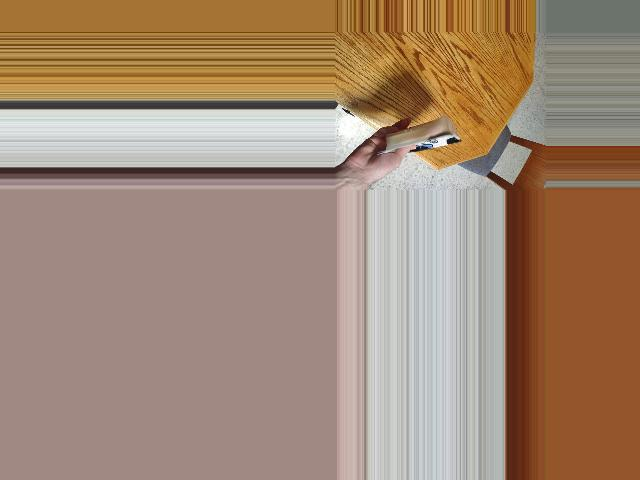cheese: (384, 108, 457, 171)
